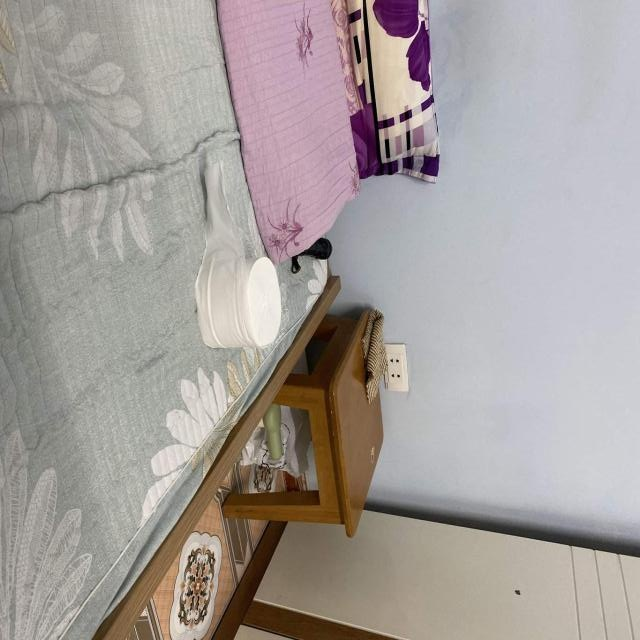outlet: (383, 343, 409, 392)
